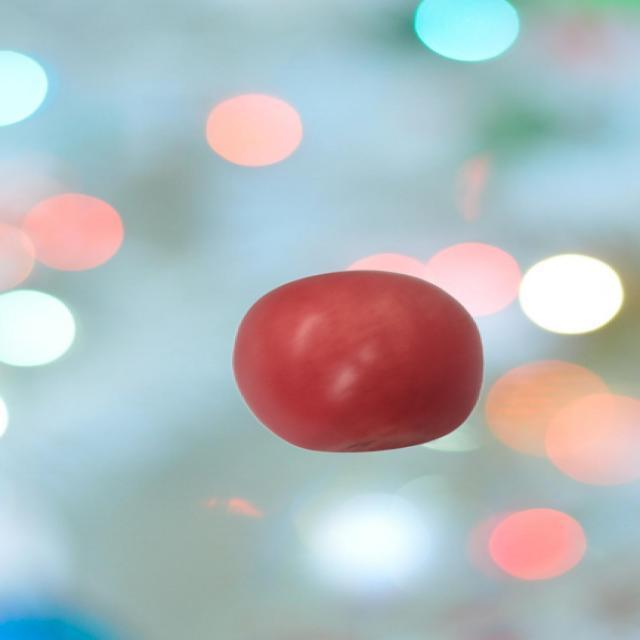apple: (232, 269, 484, 454)
